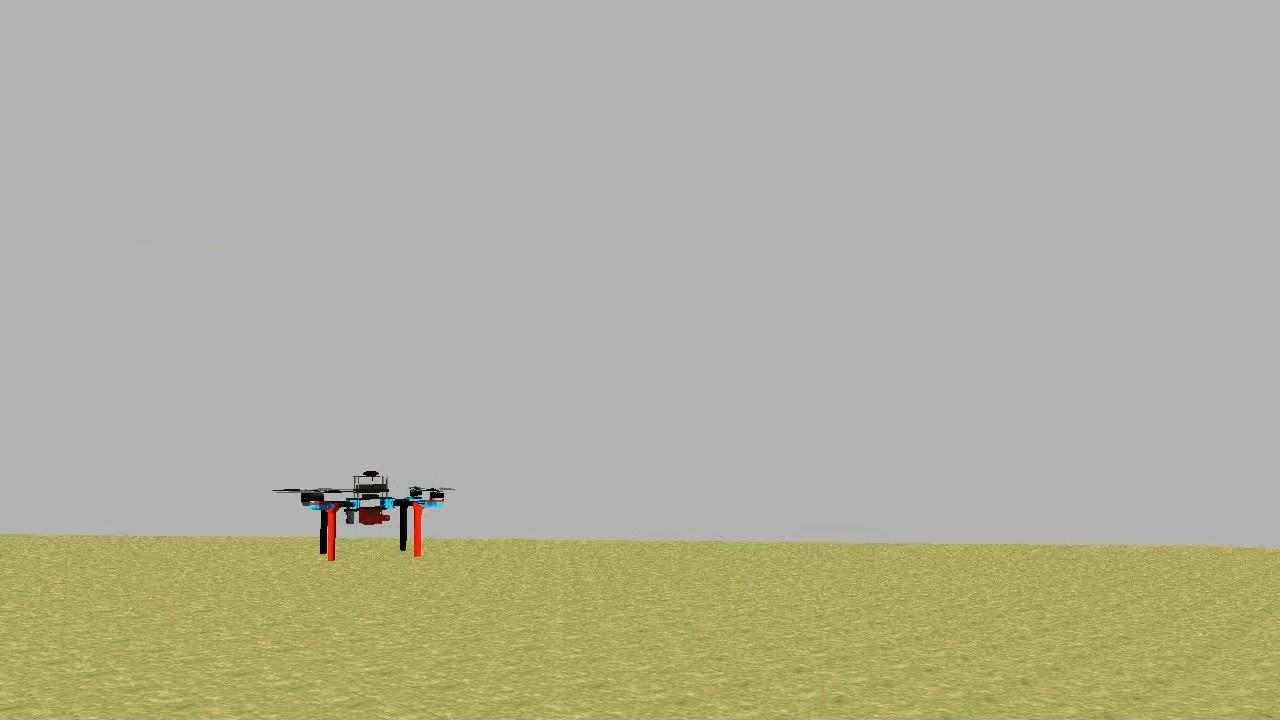UAV: (293, 462, 453, 567)
